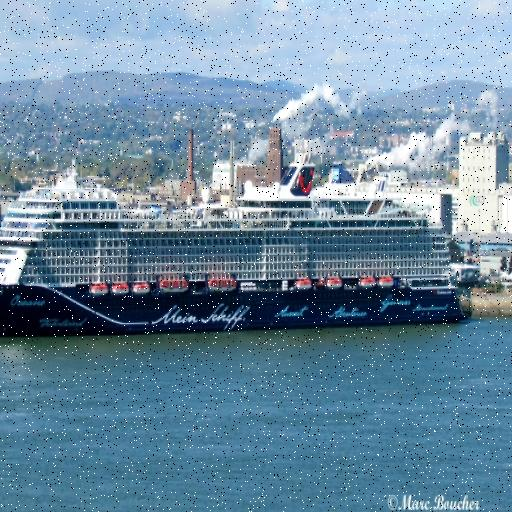cruises: (1, 146, 488, 341)
